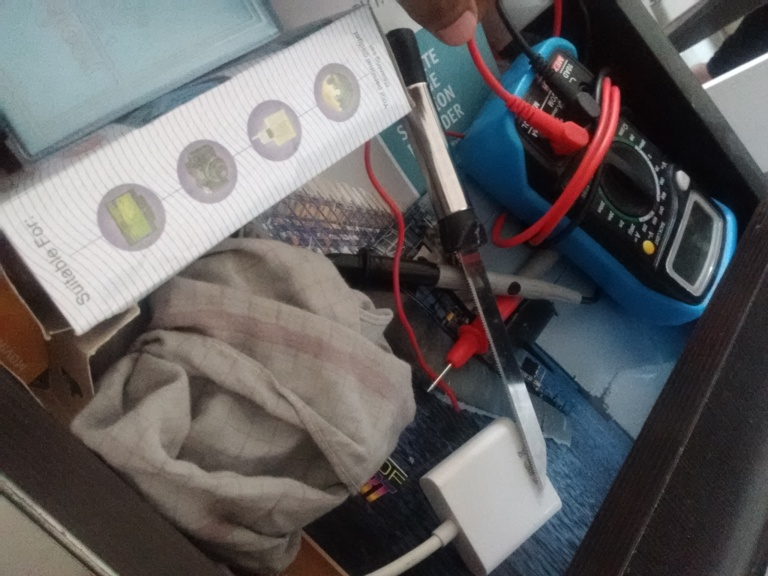knife: (389, 31, 549, 489)
